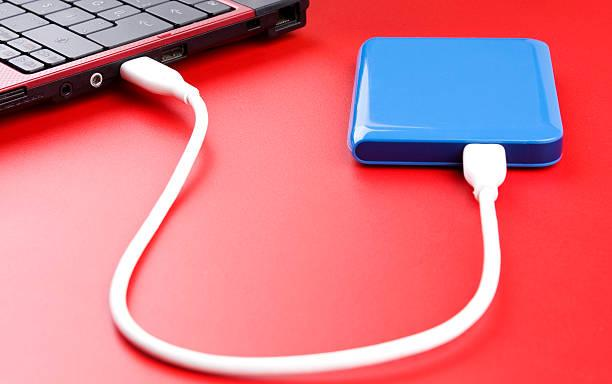HDD: (346, 37, 563, 171)
